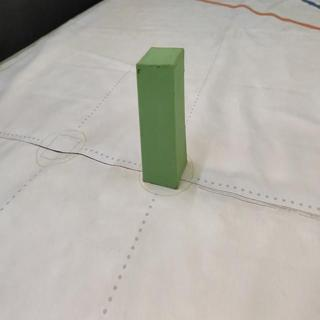greenbox: (134, 44, 187, 188)
